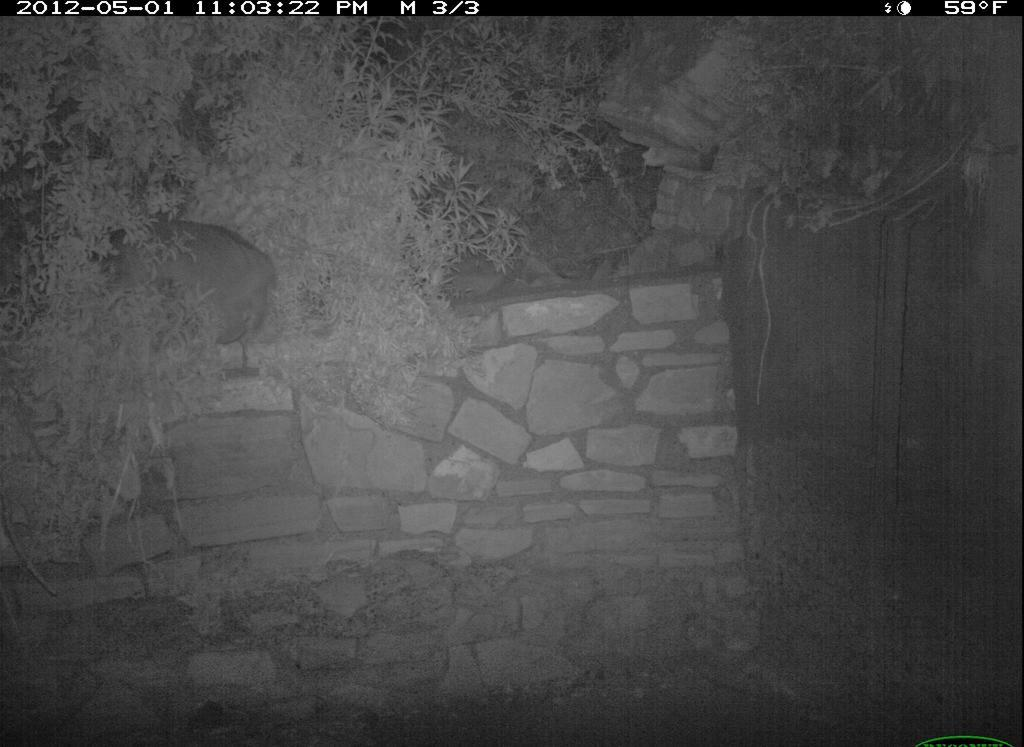raccoon: (81, 213, 285, 350)
